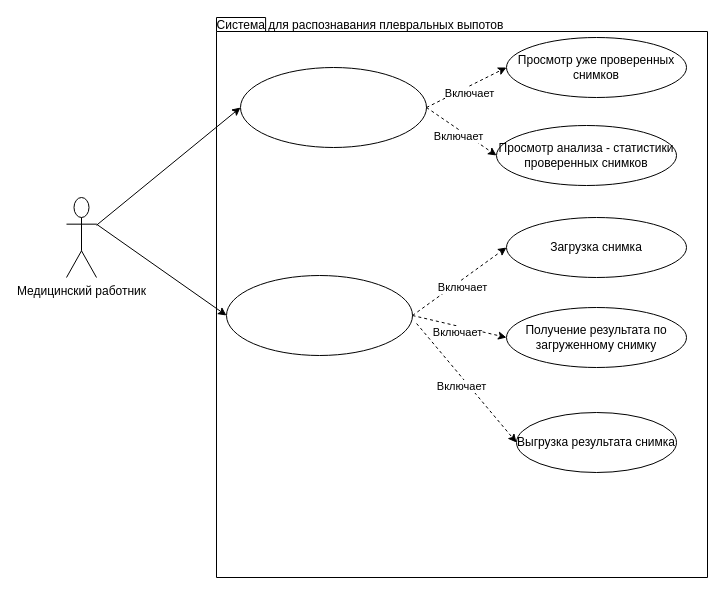
Image size: 725x595. Some labels were removed from this diagram. The shapes that lost their labels are listed below. From the top down, each one's centre as x and y in pixels, then its label:
(333,107): Просмотр и анализ данных о легочных заболеваниях
(319,315): Загрузка и проверка снимков с легочным заболеванием
